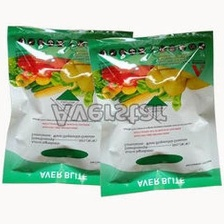insecticide: (83, 26, 223, 199), (1, 23, 135, 186)
